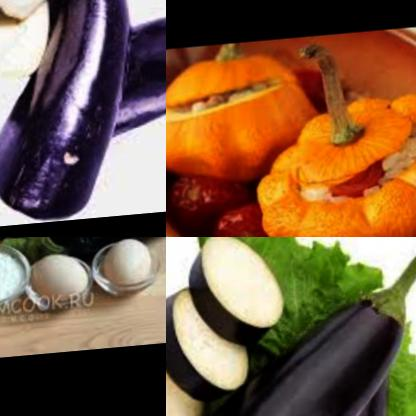eggplant: (166, 266, 416, 416), (0, 0, 129, 228), (166, 237, 281, 416), (280, 358, 404, 416), (116, 0, 166, 138), (11, 237, 166, 259)
squash-patisson: (248, 80, 416, 237), (166, 40, 317, 186)
tomato: (166, 163, 251, 237), (204, 200, 270, 237)
